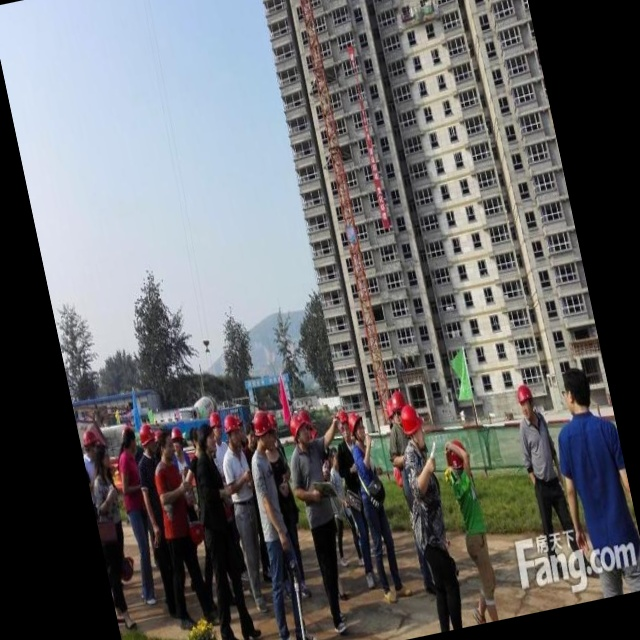Con_Casco: (399, 404, 428, 449), (252, 408, 276, 449), (515, 382, 536, 420)
Sin_Casco_Mascarrilla: (559, 365, 595, 418)
